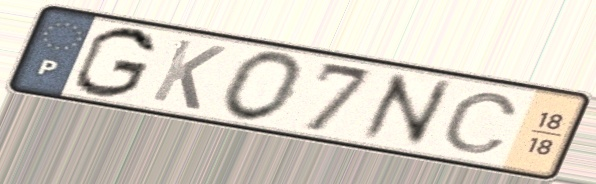7: (304, 58, 375, 135)
C: (438, 90, 523, 155)
G: (70, 24, 161, 100)
K: (146, 35, 230, 114)
N: (356, 69, 456, 149)
O: (218, 48, 310, 125)
